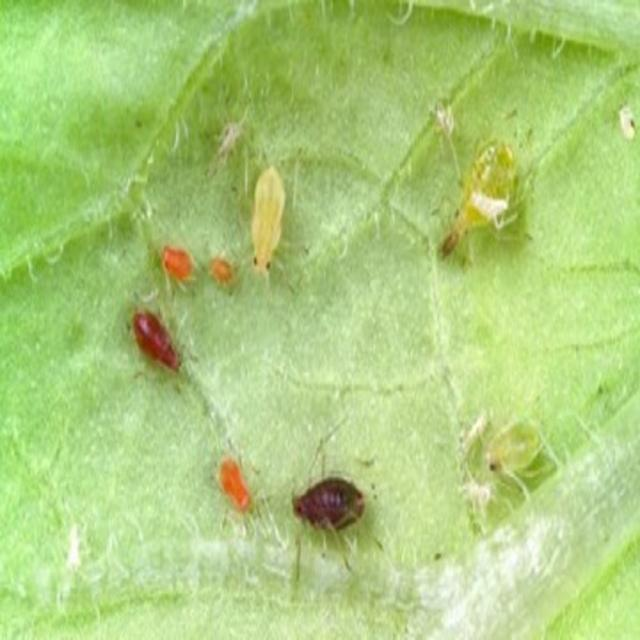Aphid-Grown-: (230, 141, 314, 298), (284, 443, 380, 553), (467, 399, 552, 514)
